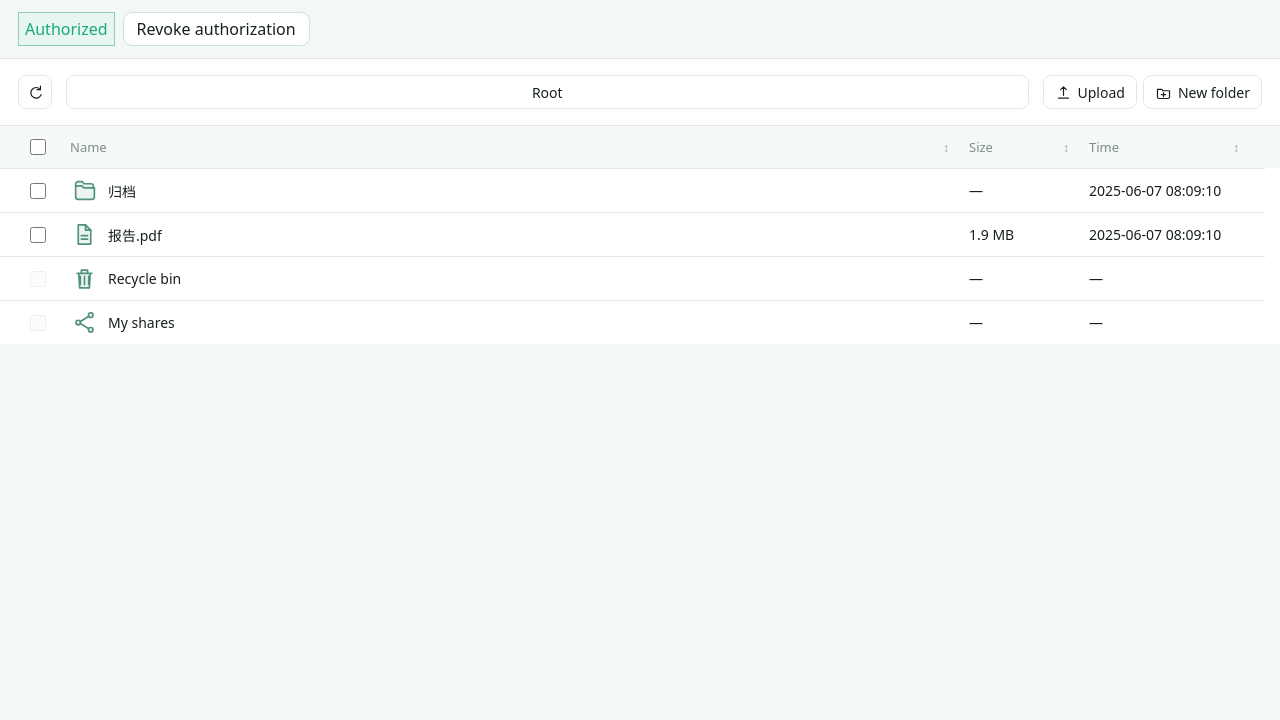
Test case: shows the preparing notice before the first upload progress in a non-Chinese locale
Expected: the element named "Quark files" is shown, [0,126,1279,344]
What coordinates should you click on to do the following:
click the button "Upload"
I would click on:
 (1090, 92)
Its box is [1042,75,1137,109].
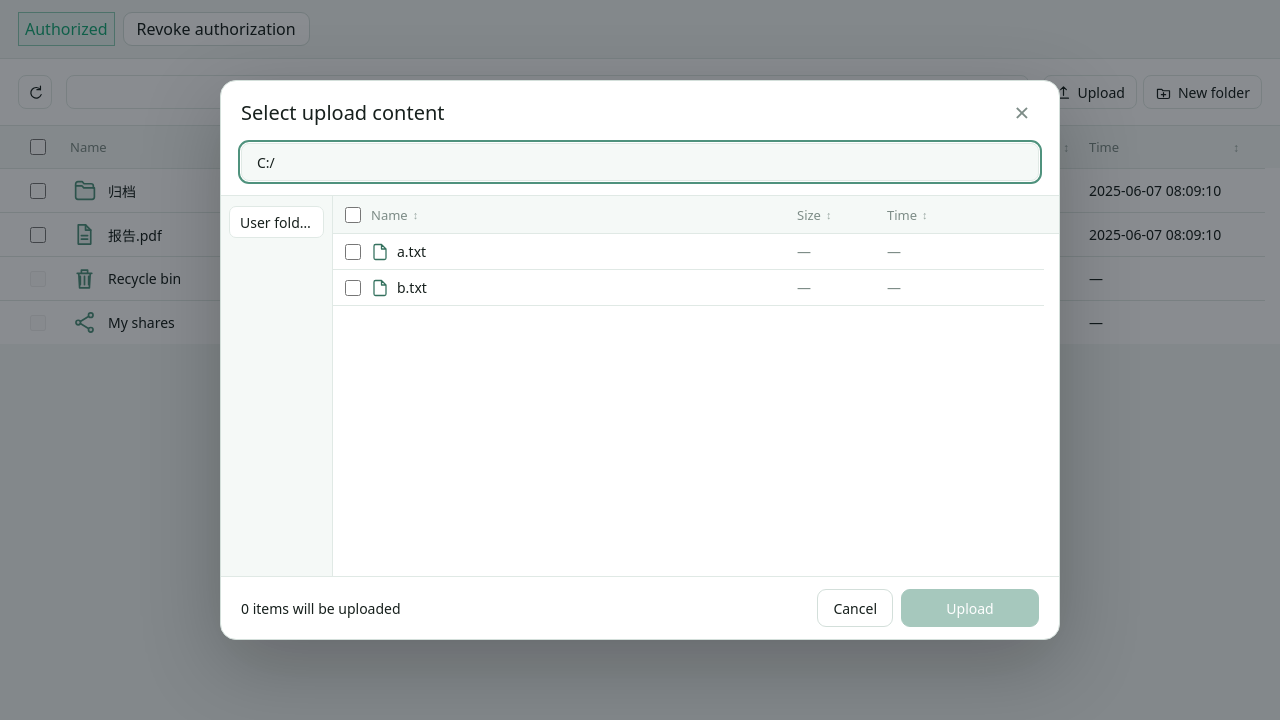
What coordinates should you click on to do the following:
click the checkbox named "Select current folder"
I would click on:
 (353, 214)
Its box is [345,206,361,222].
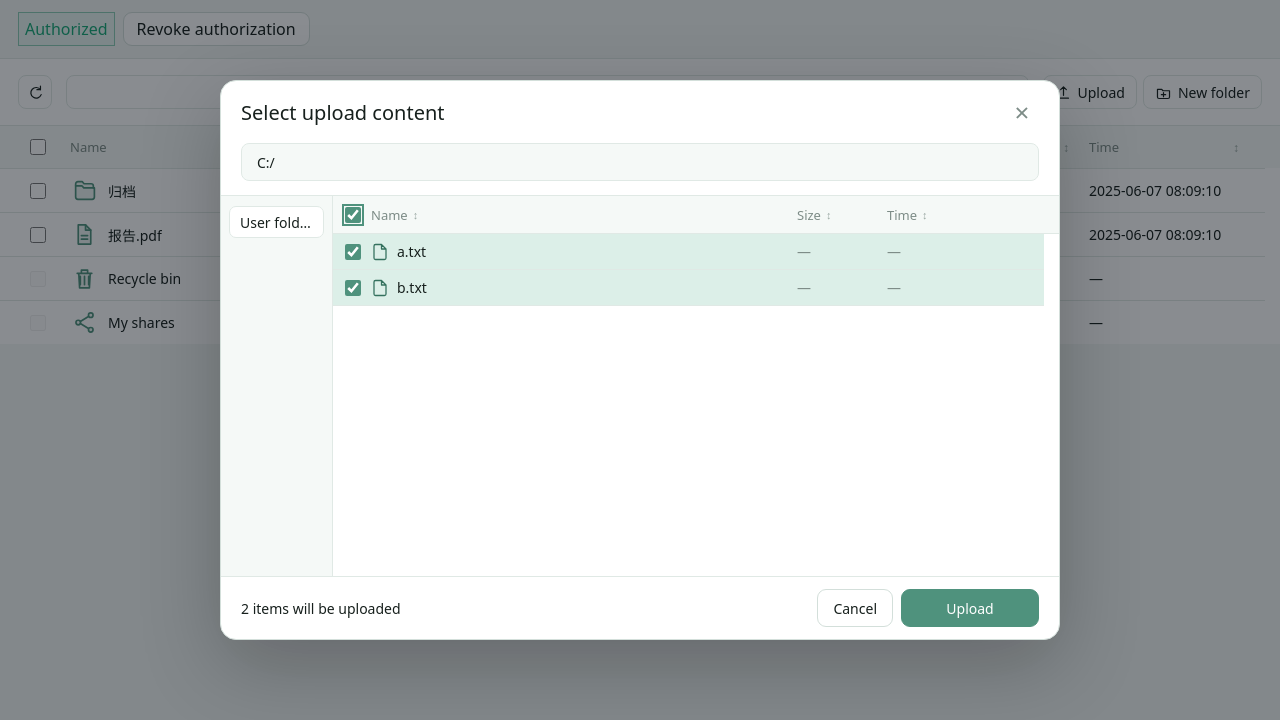
What coordinates should you click on to do the following:
click the button "Upload"
I would click on:
 (970, 608)
Its box is [901,589,1039,627].
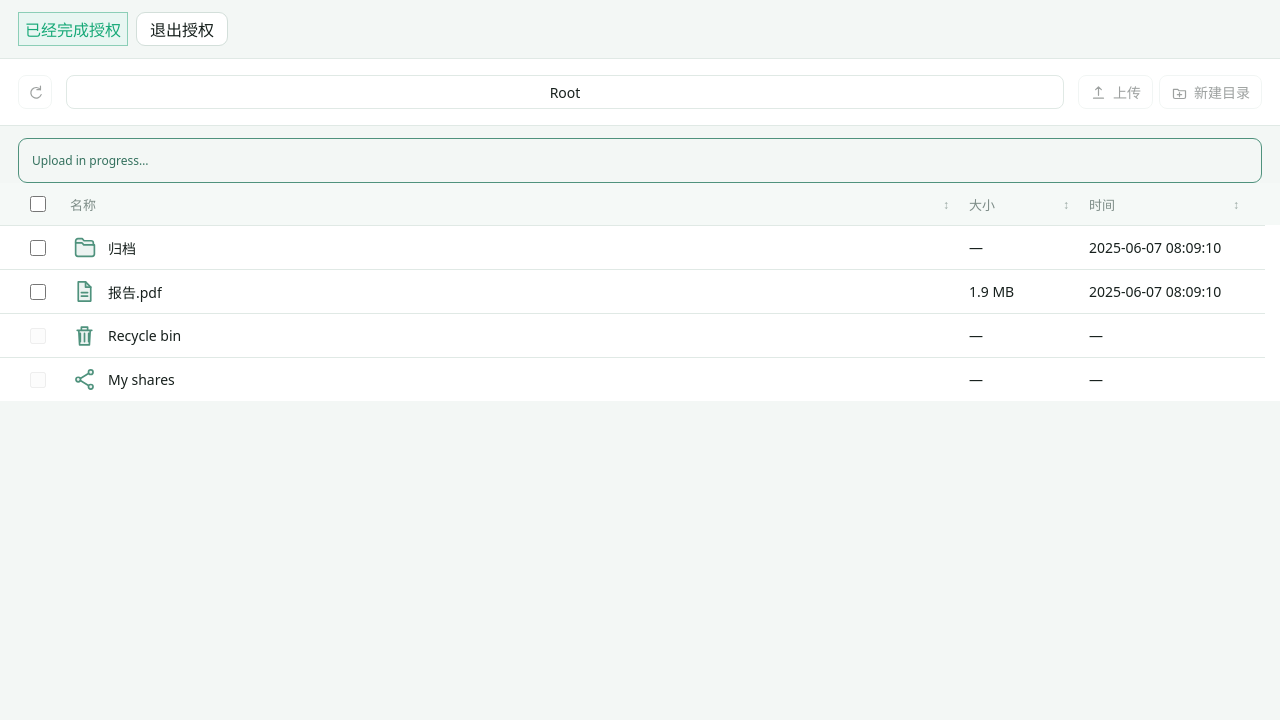
Expected: the text "Preparing files for upload" is shown, [32,152,149,169]
